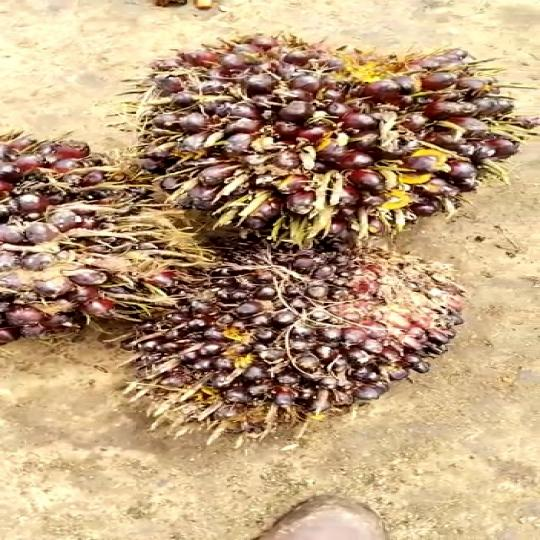kurang masak: (133, 29, 540, 258), (144, 248, 436, 436), (0, 131, 236, 352)
